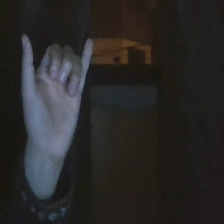Y: (11, 25, 106, 176)
